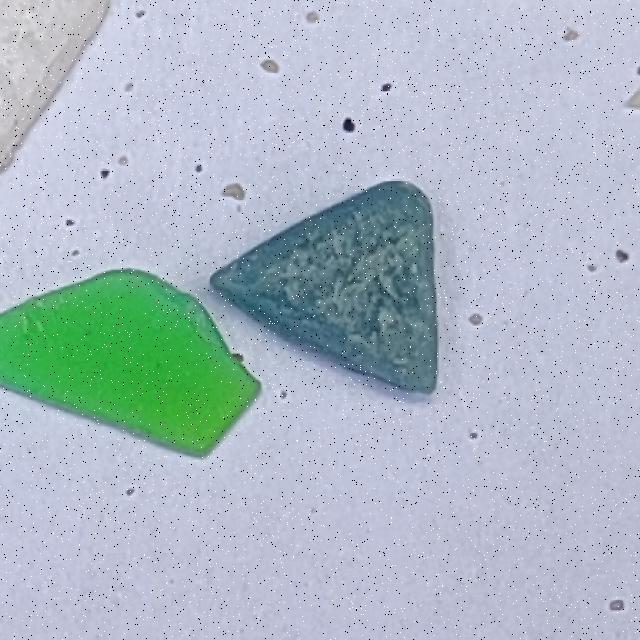fragments: (200, 127, 509, 409), (0, 232, 286, 477)
